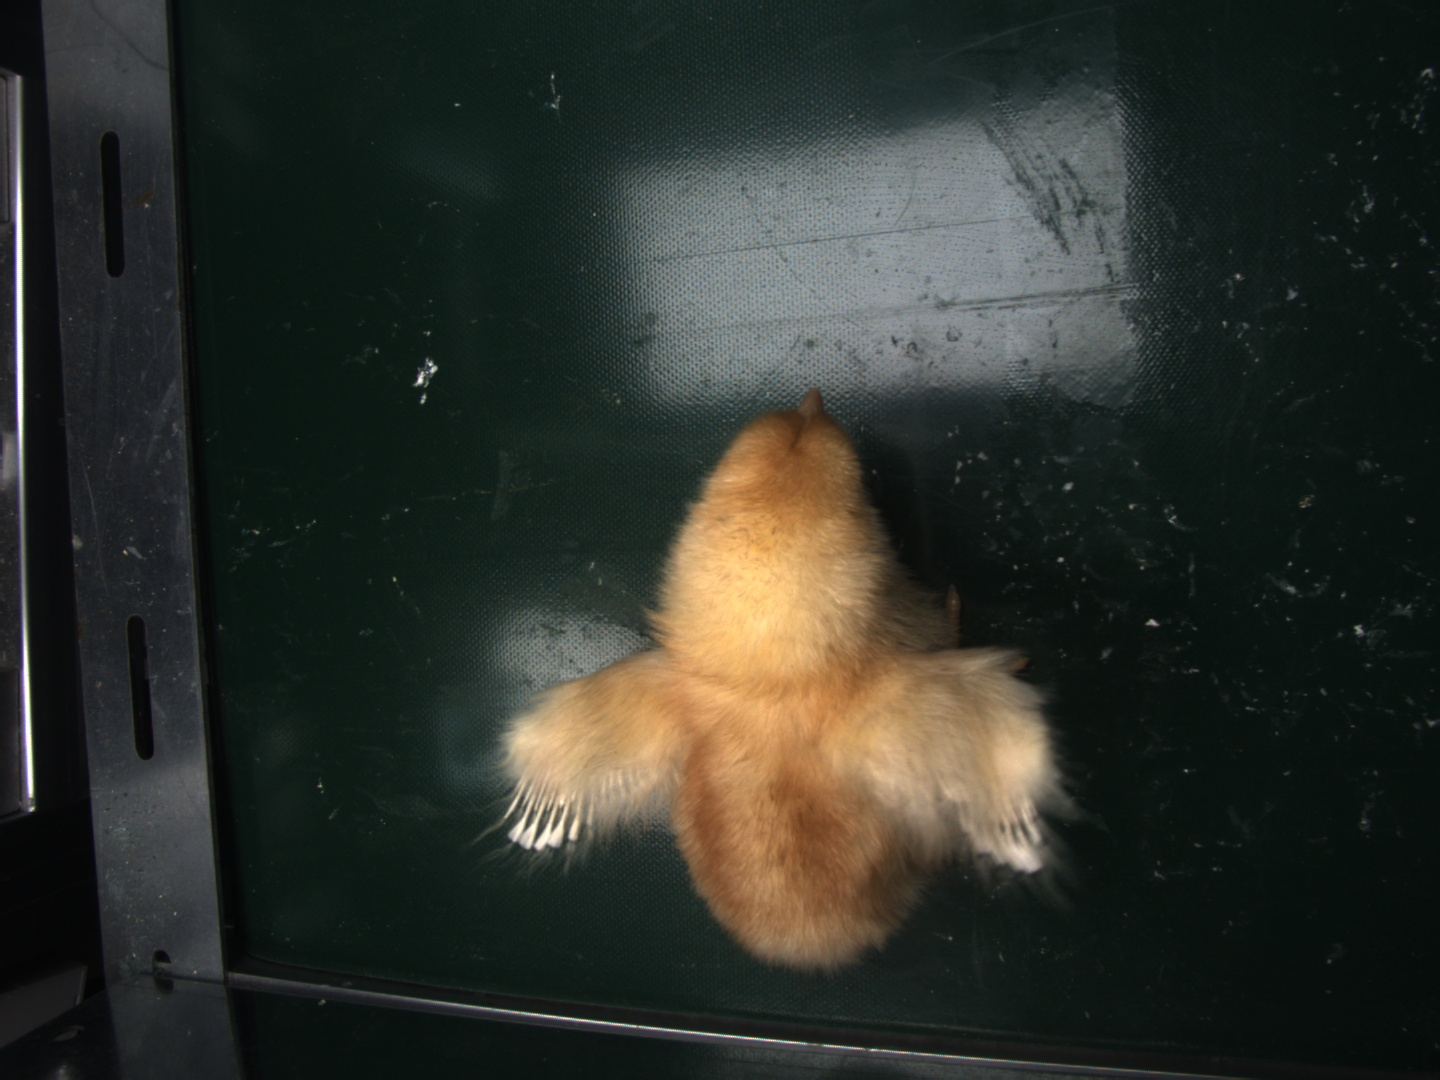female: (499, 781, 587, 849)
